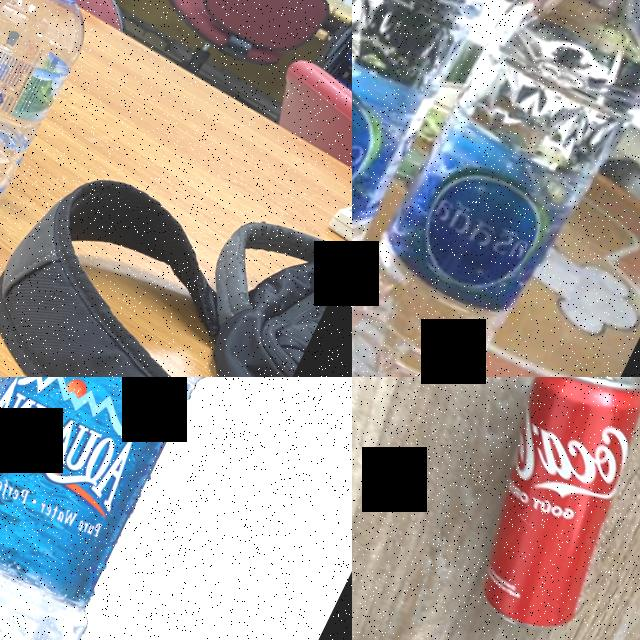bottle: (352, 0, 640, 377), (0, 377, 283, 640), (352, 0, 549, 377), (0, 0, 114, 225)
can: (430, 377, 640, 640)
